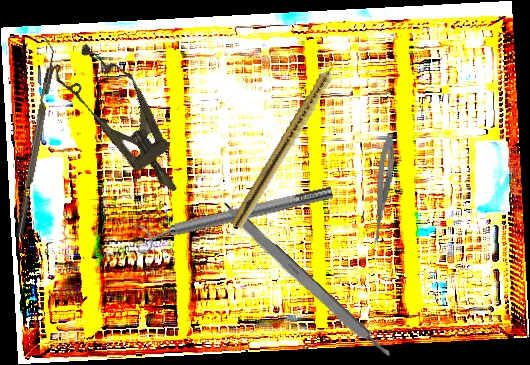Chopper: (5, 37, 62, 238)
Fixation Ring: (131, 177, 337, 256)
Handpiece: (230, 51, 348, 232)
Micro Scissor: (369, 132, 398, 250)
Scalpel Handle: (218, 199, 393, 364)
Speculum: (46, 32, 202, 210)
